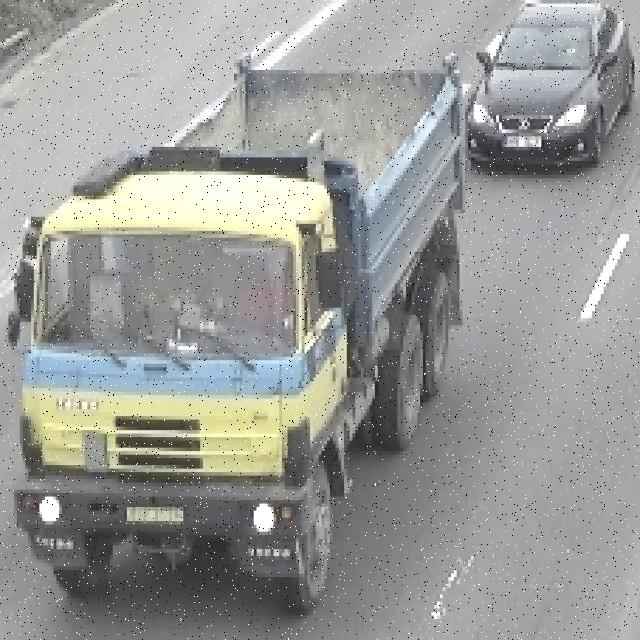truck: (3, 45, 479, 612)
